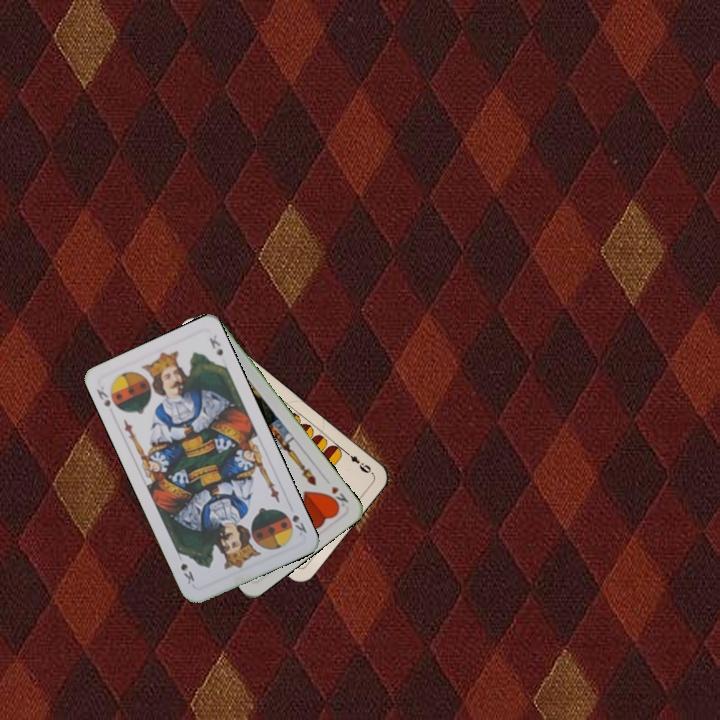E9: (340, 447, 375, 476)
HK: (324, 482, 351, 512)
SK: (280, 507, 309, 538), (92, 382, 113, 411)
